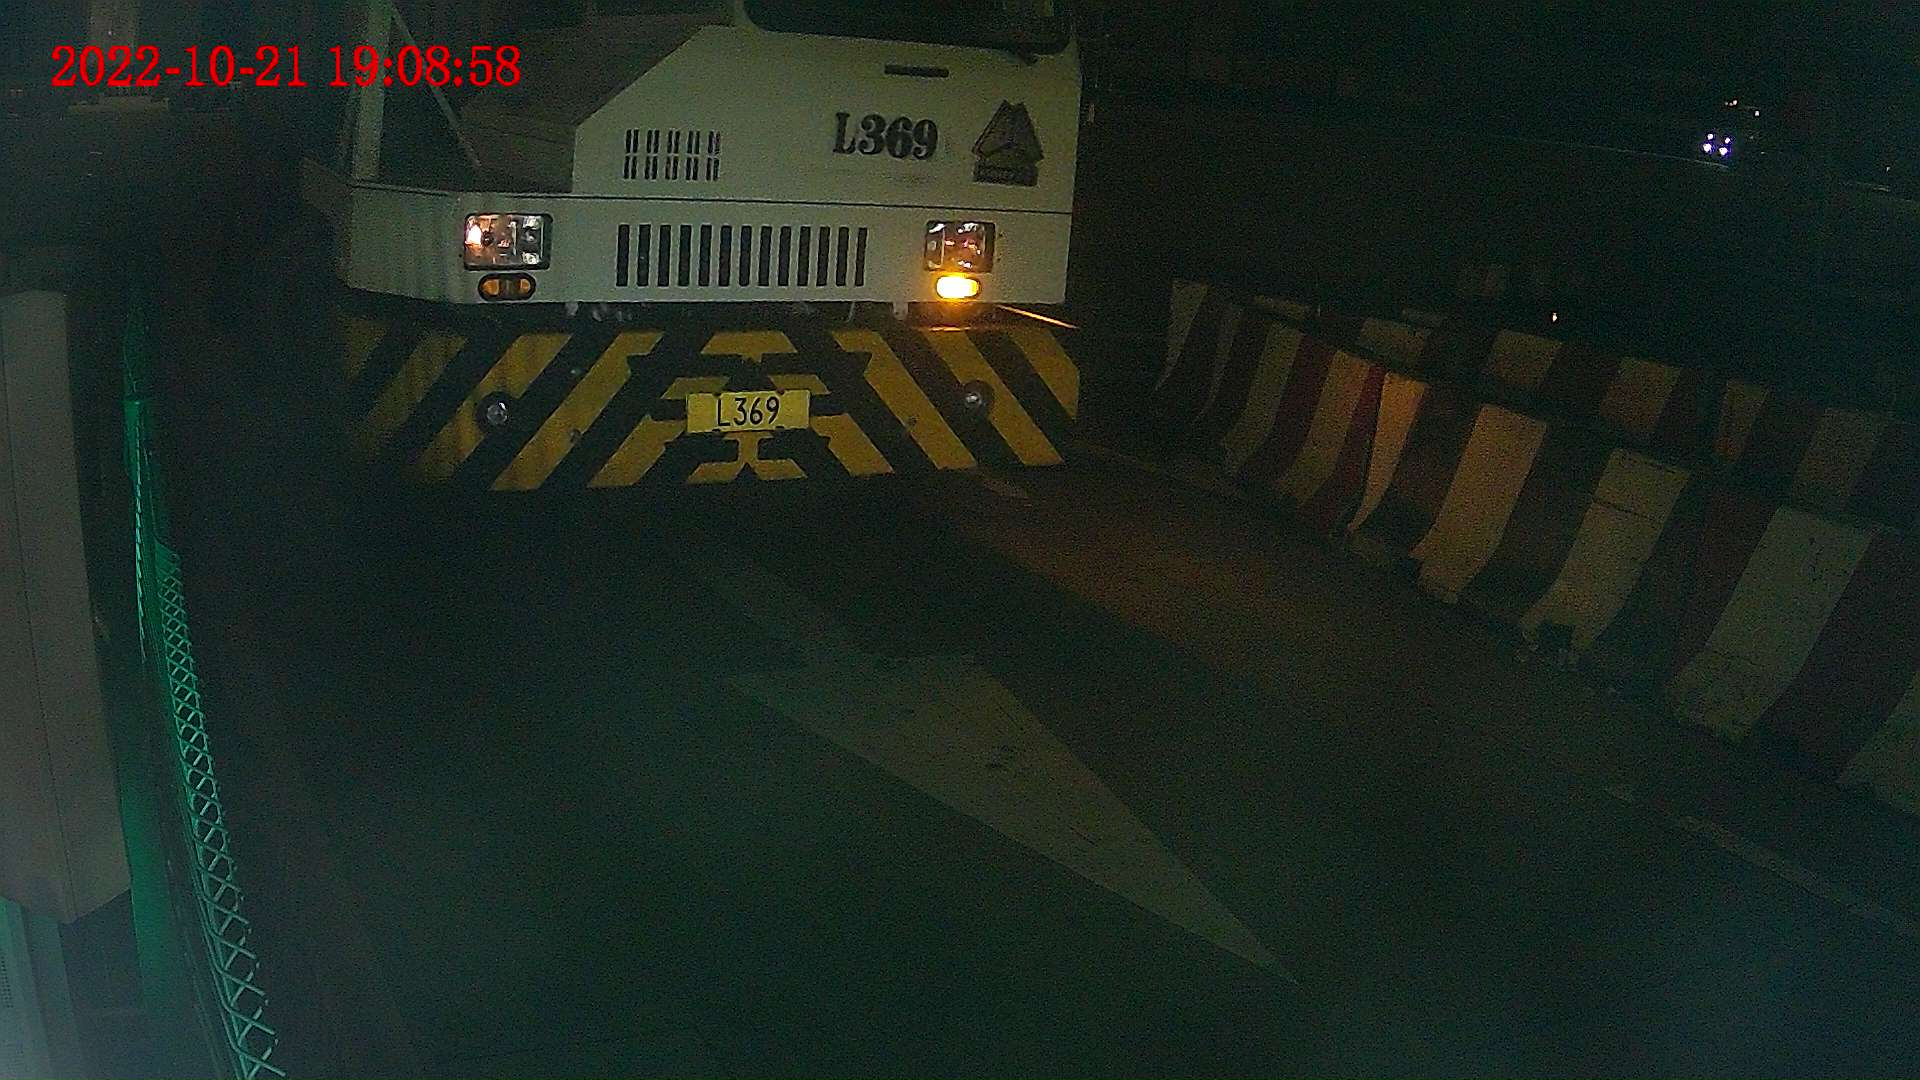head: (237, 1, 1083, 513)
plate: (684, 390, 805, 430)
